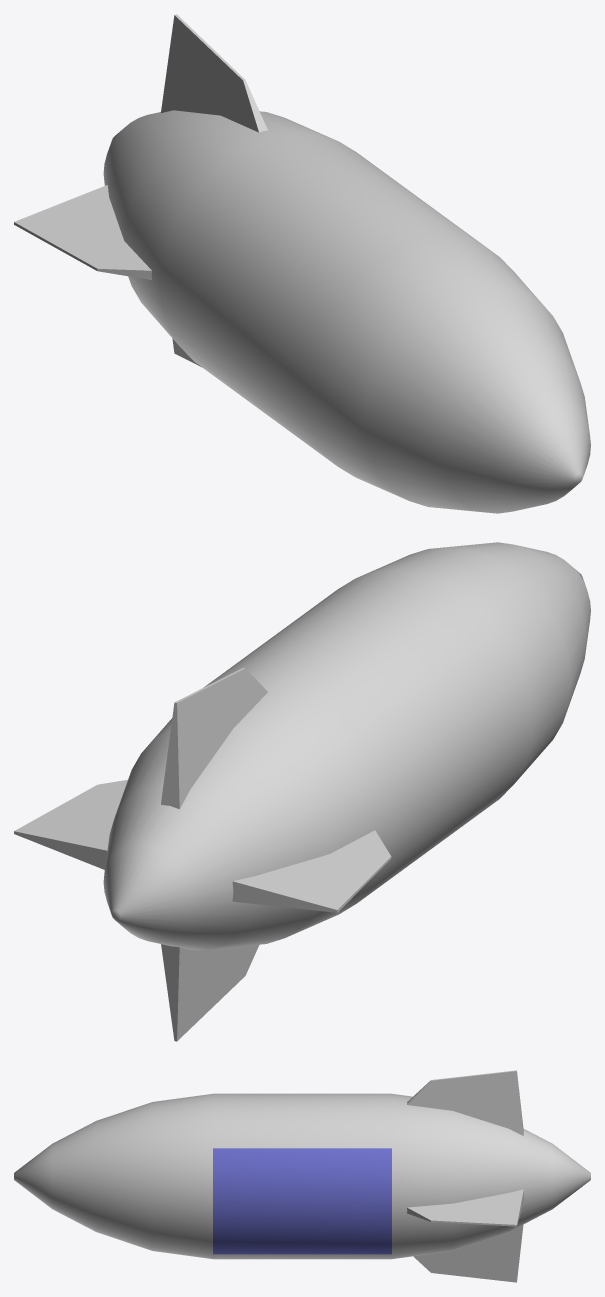
File: Arena Blimp.fbx
3 views of the same model, one above another, from view 1: azimuth 30°, elevation 25°; view 2: azimuth 150°, elevation 25°; view 3: azimuth 270°, elevation 25° (orthographic). The views are drawn at different scales.
Visible parts, largest first — view 1: Blimp; view 2: Blimp; view 3: Blimp.
Boxes of the visible parts, <box> form: Blimp: <box>14,14,590,513</box>; Blimp: <box>14,542,590,1041</box>; Blimp: <box>14,1070,590,1282</box>.
Bounding box in the file's own units: 3653 × 3653 × 9031.
